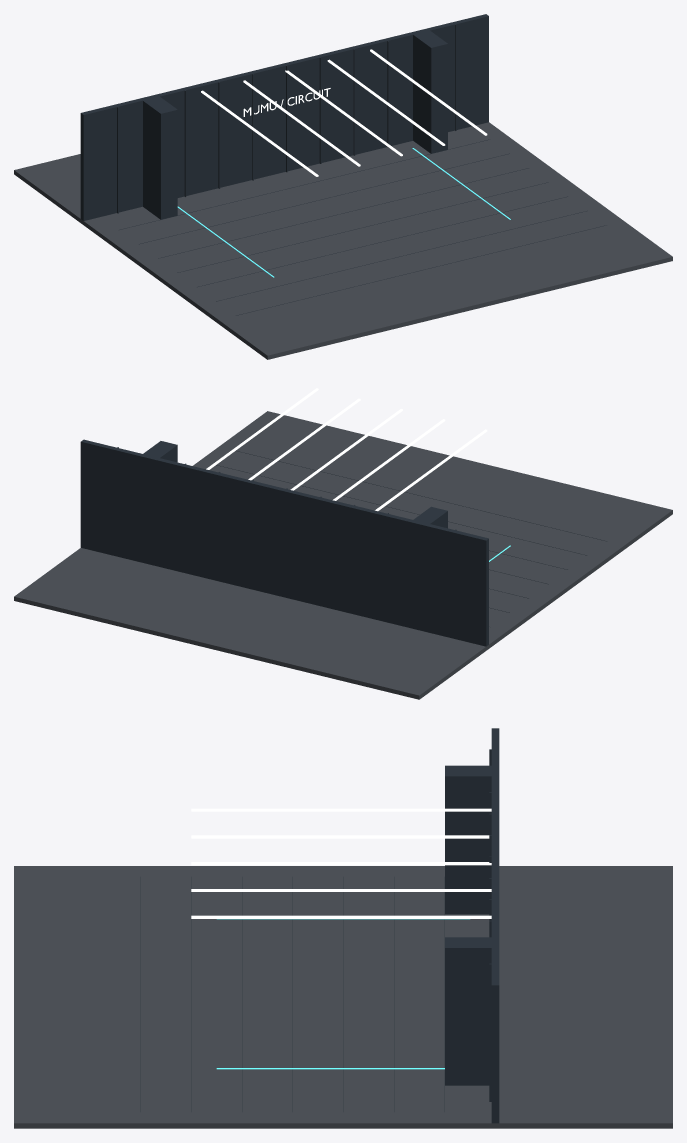
File: garage.glb
3 renders of one model, top to bottom at view 1: azimuth 30°, elevation 25°; view 2: azimuth 150°, elevation 25°; view 3: azimuth 270°, elevation 25°, orthographic. The views are drawn at different scales.
Parts seen in each view (by area): view 1: Showroom floor, Rear wall, Side pier, Side pier.001; view 2: Showroom floor, Rear wall, Side pier.001, Side pier; view 3: Showroom floor, Side pier.001, Side pier, Rear wall, Ceiling light, Ceiling light.004, Ceiling light.002, Ceiling light.001, Ceiling light.003.
Boxes of the visible parts, x1,y1,x2,y2 form: Showroom floor: [14, 122, 672, 359]; Rear wall: [80, 14, 488, 220]; Side pier: [141, 95, 177, 219]; Side pier.001: [413, 30, 447, 153]; Showroom floor: [14, 411, 672, 699]; Rear wall: [80, 439, 488, 646]; Side pier.001: [142, 441, 177, 462]; Side pier: [413, 506, 447, 528]; Showroom floor: [14, 866, 672, 1128]; Side pier.001: [445, 937, 495, 1085]; Side pier: [445, 765, 495, 914]; Rear wall: [491, 728, 499, 1123]; Ceiling light: [191, 808, 491, 811]; Ceiling light.004: [191, 915, 491, 918]; Ceiling light.002: [191, 862, 491, 865]; Ceiling light.001: [191, 835, 489, 838]; Ceiling light.003: [191, 889, 491, 891].
Bounding box in the file's own units: 24 × 6.24 × 26.
